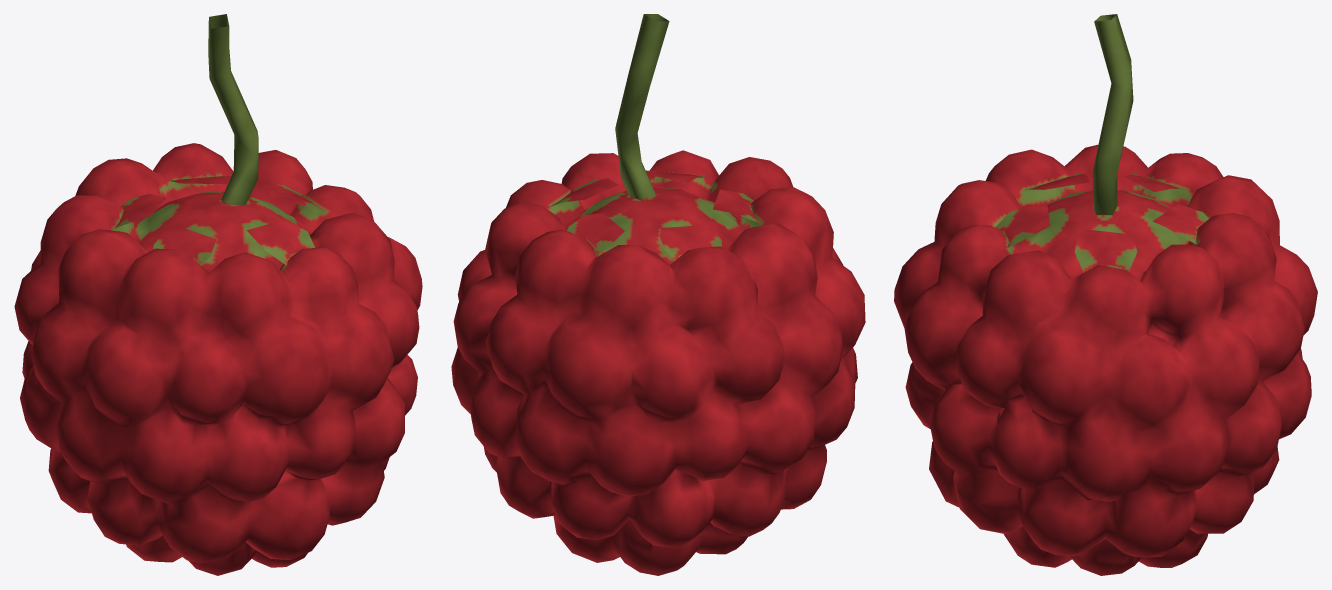
Rendered from raspberry_cluster.glb.
3 renders of one model, left to right at view 1: azimuth 30°, elevation 25°; view 2: azimuth 150°, elevation 25°; view 3: azimuth 270°, elevation 25°, orthographic.
Visible parts, largest first — view 1: raspberry_cluster; view 2: raspberry_cluster; view 3: raspberry_cluster.
Boxes of the visible parts, left/top/right/bottom form: raspberry_cluster: left=14, top=14, right=422, bottom=575; raspberry_cluster: left=451, top=14, right=865, bottom=575; raspberry_cluster: left=894, top=14, right=1317, bottom=575.
Size of the model in its own units: 0.0188 by 0.0265 by 0.019.
Materials: 1 (1 with a texture image).
